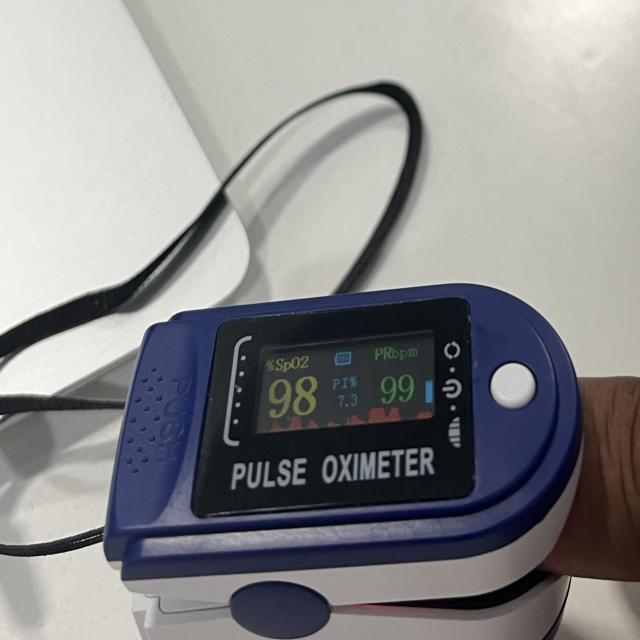spo2: (105, 289, 581, 637)
